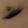cockroach: (3, 6, 23, 20)
